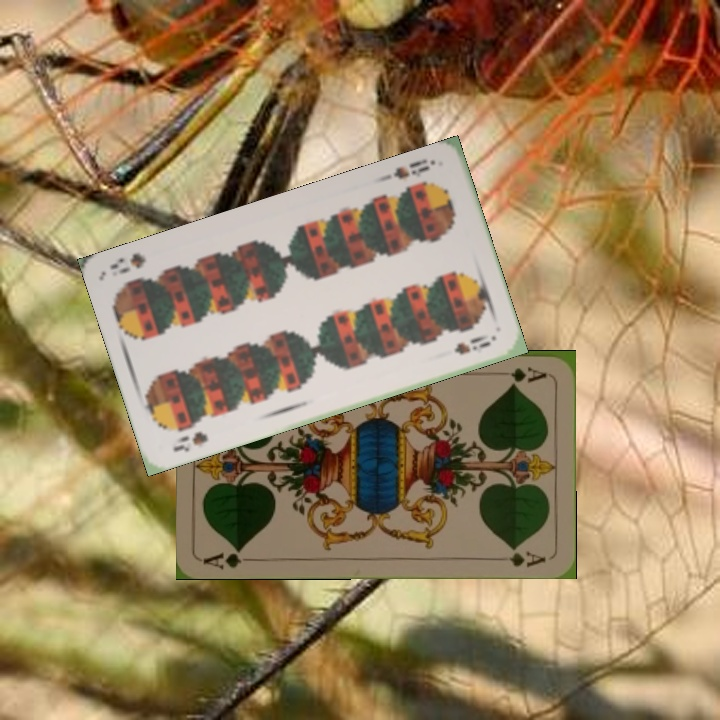GA: (201, 544, 260, 571), (506, 362, 549, 384)
S8: (169, 427, 211, 455), (390, 161, 432, 182)
